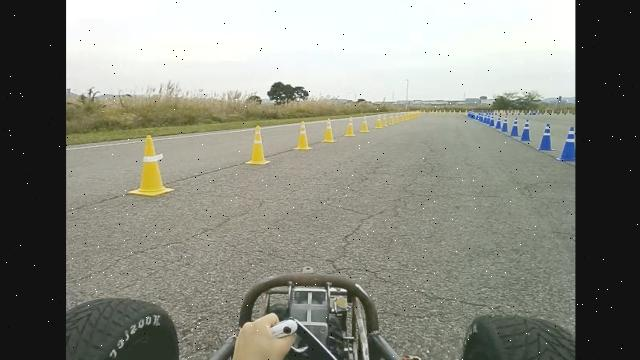yellow cone: (128, 134, 175, 197), (245, 124, 272, 165), (294, 120, 314, 151), (321, 117, 337, 143), (344, 115, 356, 136), (360, 114, 370, 133), (374, 116, 384, 128), (381, 114, 389, 127)
